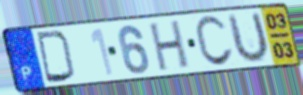1: (90, 28, 115, 77)
6: (116, 23, 151, 75)
C: (193, 14, 236, 70)
D: (34, 30, 77, 85)
H: (148, 18, 191, 74)
U: (226, 10, 271, 66)
